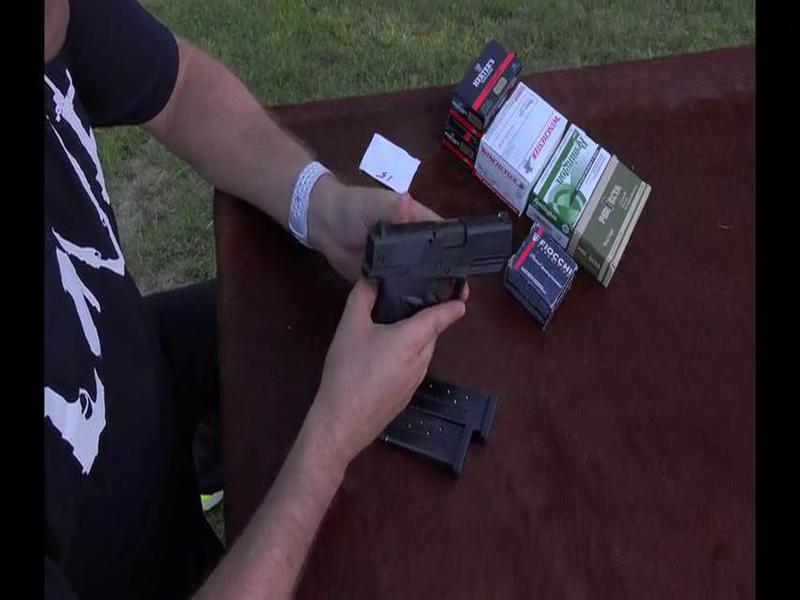Pistola: (352, 197, 533, 360)
